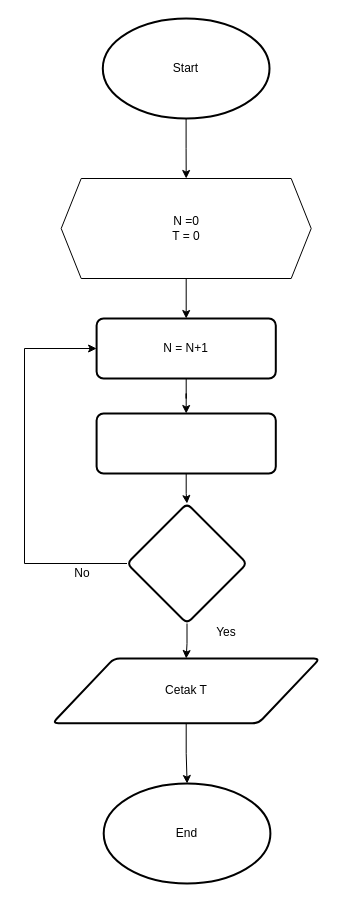
This 338x901 diagram has some shape labels left out. Here are the shapes that lost their labels. From the top down, the centre of each, then its label:
At point (185, 443): "T = T + N".
At point (187, 563): "N = 5".
